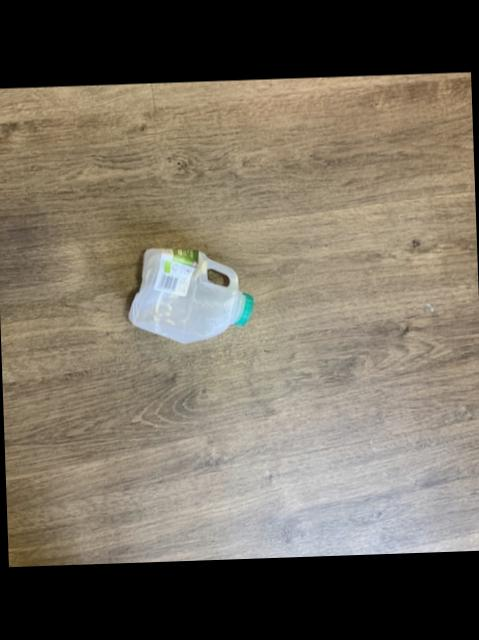plastic: (128, 247, 253, 342)
